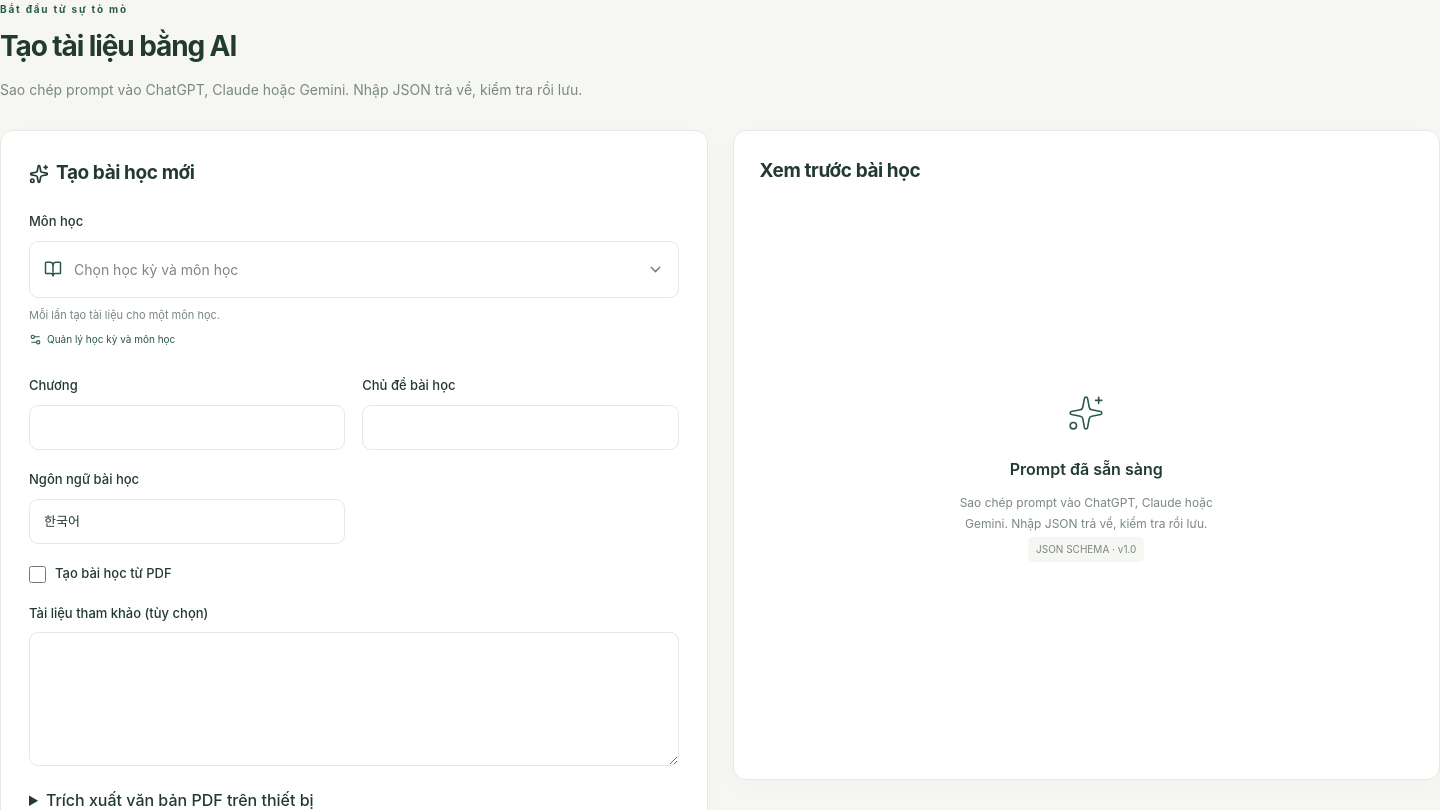
Test case: blocks duplicate subject names before saving
Click the button "Quản lý học kỳ và môn học" at (102, 340), box [29,330,175,350]
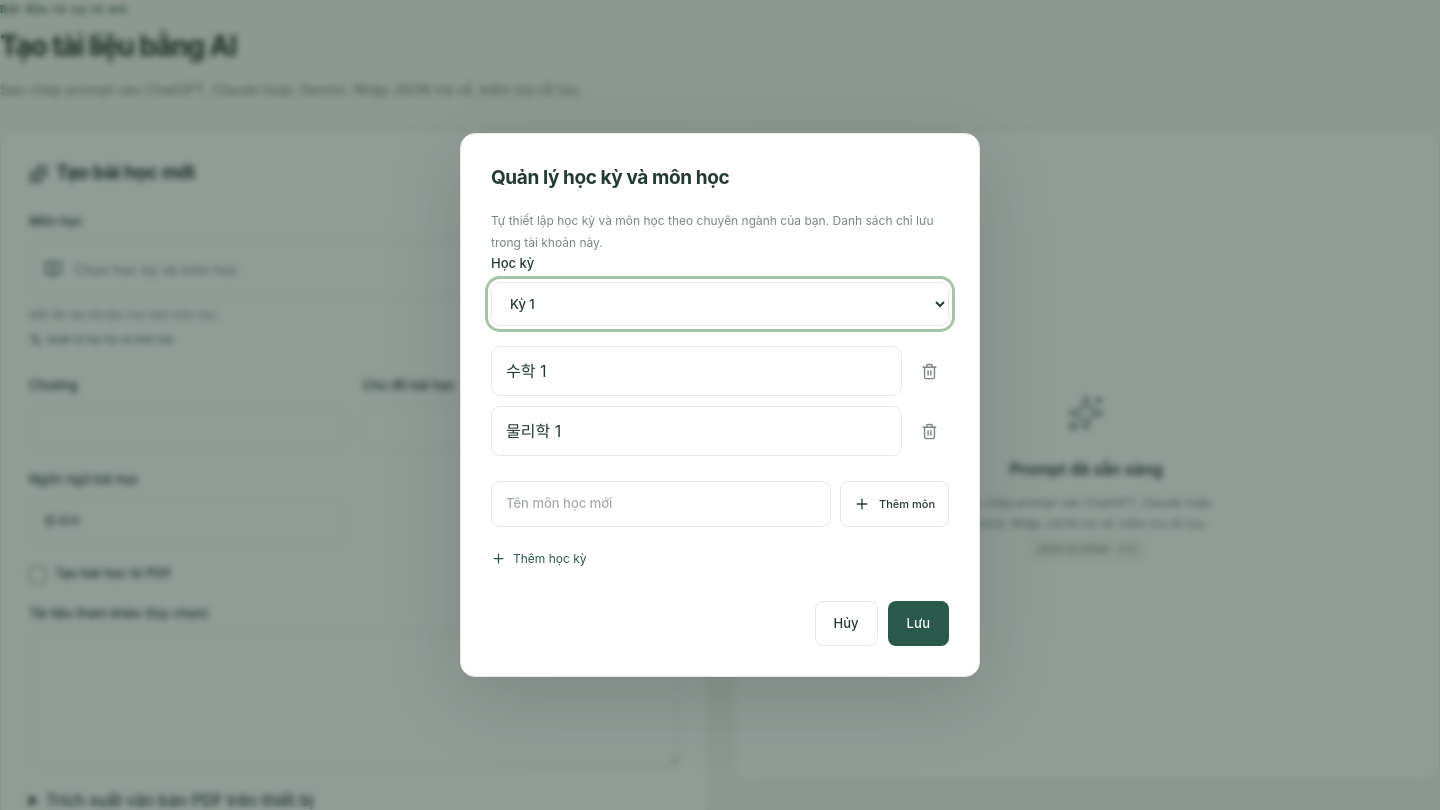
Type "수학 1" into the field labelled "Tên môn học mới" at (661, 504), box [491,481,831,527]
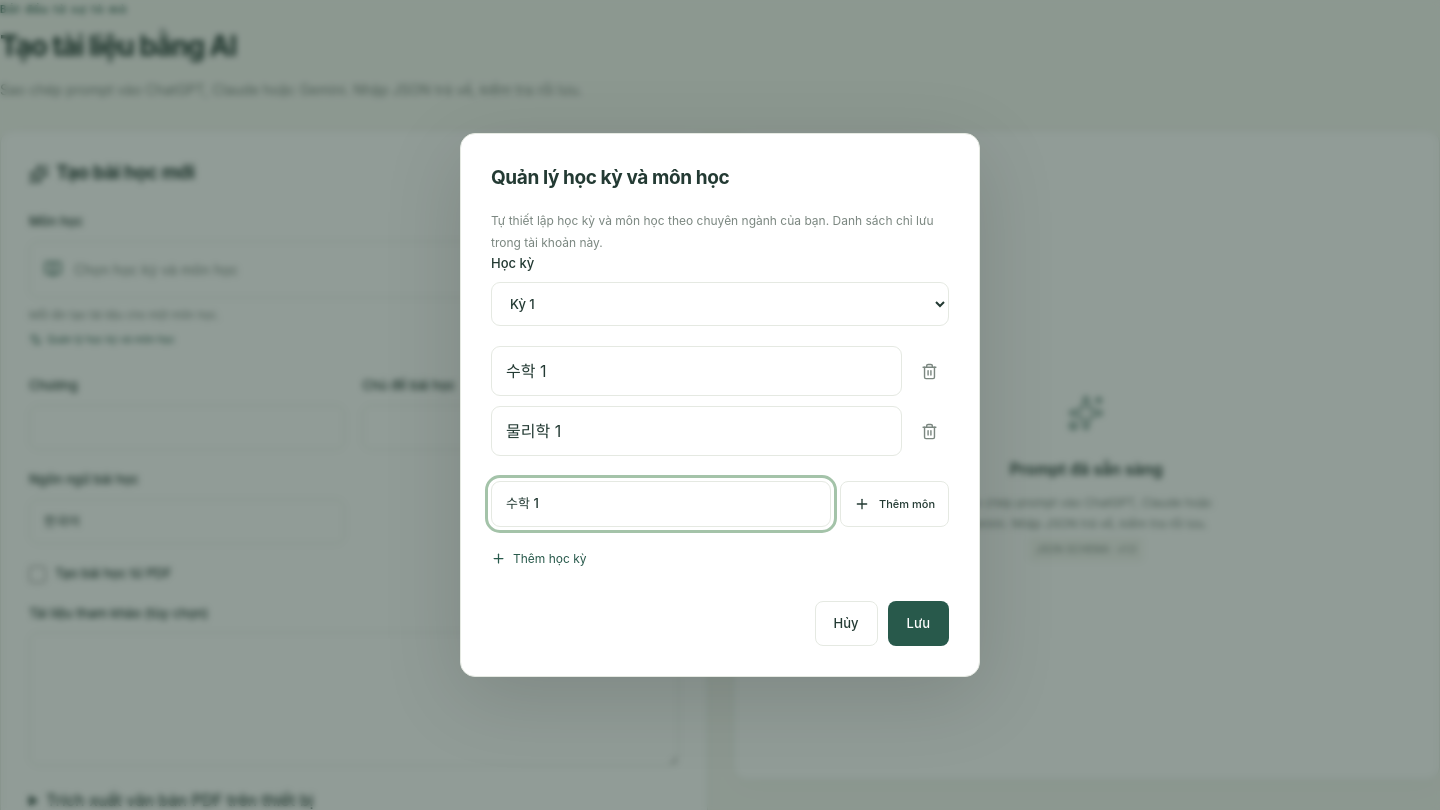
Click the button "Thêm môn" at (894, 504), box [840,481,949,527]
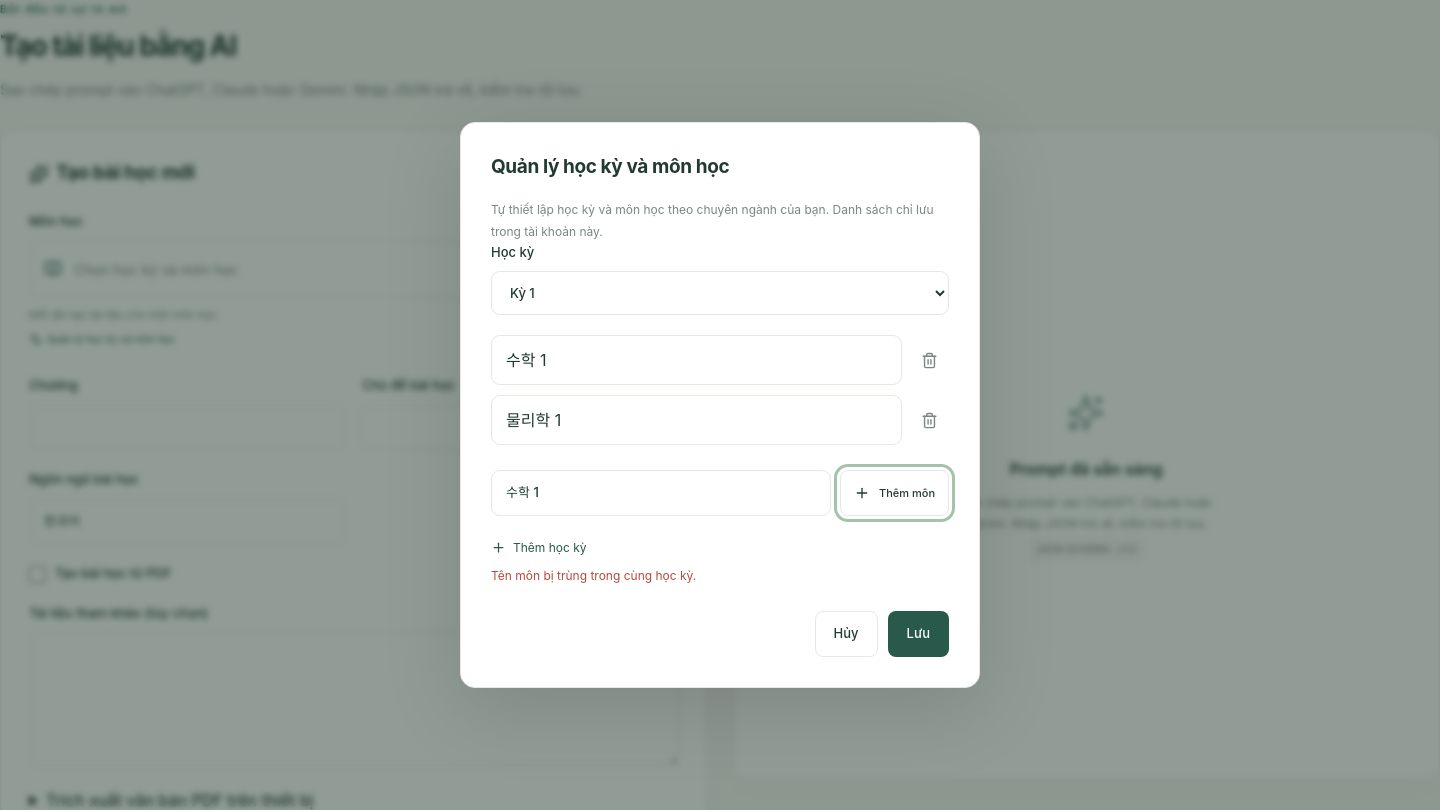
Expected: the message shows "Tên môn bị trùng", [491,568,696,583]
